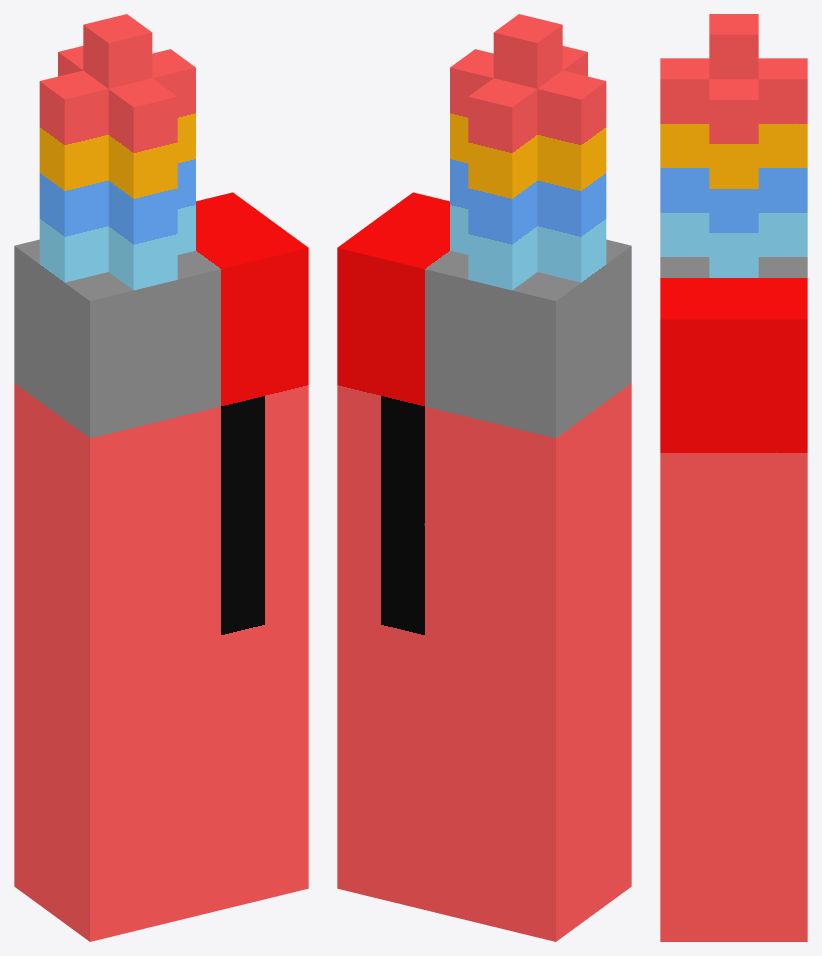
The model's file is 打火机.gltf.
3 views of the same model, side by side, from view 1: azimuth 30°, elevation 25°; view 2: azimuth 150°, elevation 25°; view 3: azimuth 270°, elevation 25° (orthographic). The views are drawn at different scales.
Parts seen in each view (by area): view 1: Object; view 2: Object; view 3: Object.
Part boxes in pixels (<box>): Object: <box>14,14,308,941</box>; Object: <box>337,14,631,941</box>; Object: <box>660,14,807,941</box>.
Size of the model in its own units: 5 by 19 by 3.
Materials: 1 (1 with a texture image).
